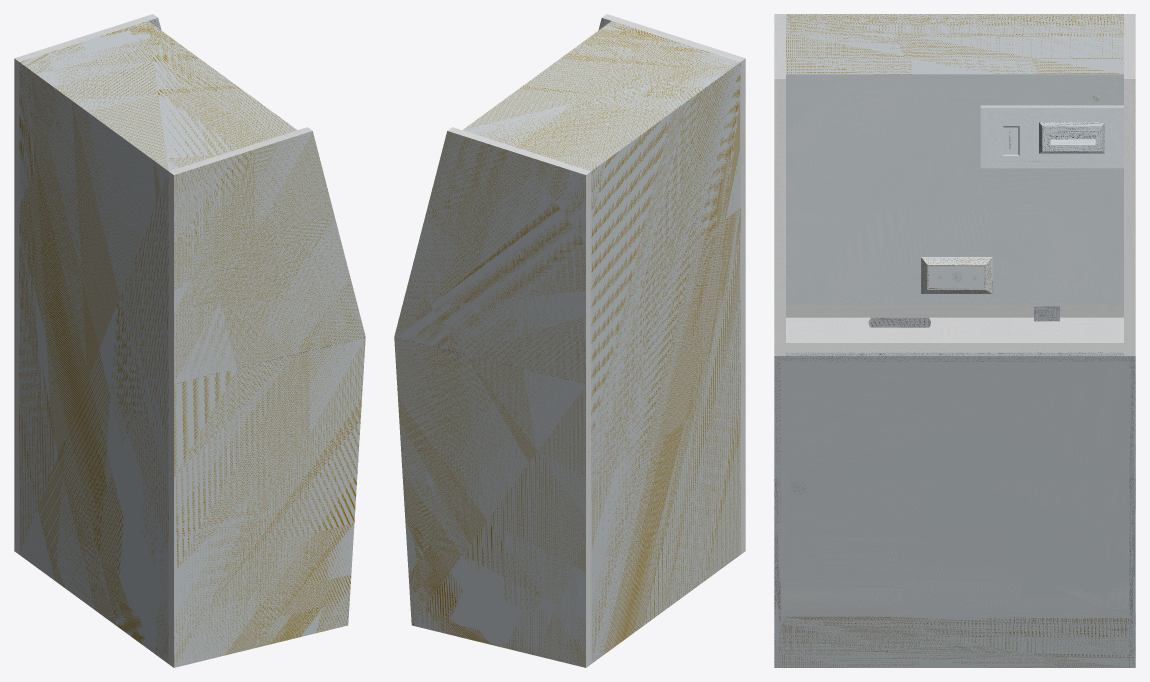
File: ChangeMachineMesh.fbx
3 renders of one model, left to right at view 1: azimuth 30°, elevation 25°; view 2: azimuth 150°, elevation 25°; view 3: azimuth 270°, elevation 25°, orthographic. The views are drawn at different scales.
Parts seen in each view (by area): view 1: instance_0.006, instance_0.033, instance_0.025, instance_0; view 2: instance_0.006, instance_0.040, instance_0.016, instance_0; view 3: instance_0.035, instance_0.030, instance_0, instance_0.006, instance_0.031, instance_0.021, instance_0.023, instance_0.017, instance_0.022, instance_0.002, instance_0.008, instance_0.001 (+1 smaller).
Part boxes in pixels (<box>): instance_0.006: <box>19,21,297,663</box>; instance_0.033: <box>174,337,365,667</box>; instance_0.025: <box>174,131,365,383</box>; instance_0: <box>14,14,312,667</box>; instance_0.006: <box>462,21,740,663</box>; instance_0.040: <box>394,337,585,667</box>; instance_0.016: <box>394,131,585,383</box>; instance_0: <box>447,14,745,667</box>; instance_0.035: <box>780,361,1129,616</box>; instance_0.030: <box>786,74,1123,304</box>; instance_0: <box>774,14,1135,355</box>; instance_0.006: <box>786,14,1123,74</box>; instance_0.031: <box>780,616,1129,667</box>; instance_0.021: <box>774,356,1135,667</box>; instance_0.023: <box>980,105,1123,168</box>; instance_0.017: <box>995,114,1108,161</box>; instance_0.022: <box>921,257,992,293</box>; instance_0.002: <box>1039,122,1104,153</box>; instance_0.008: <box>786,352,1123,355</box>; instance_0.001: <box>931,268,981,286</box>.
Size of the model in its own units: 48.9 by 123 by 70.49.
